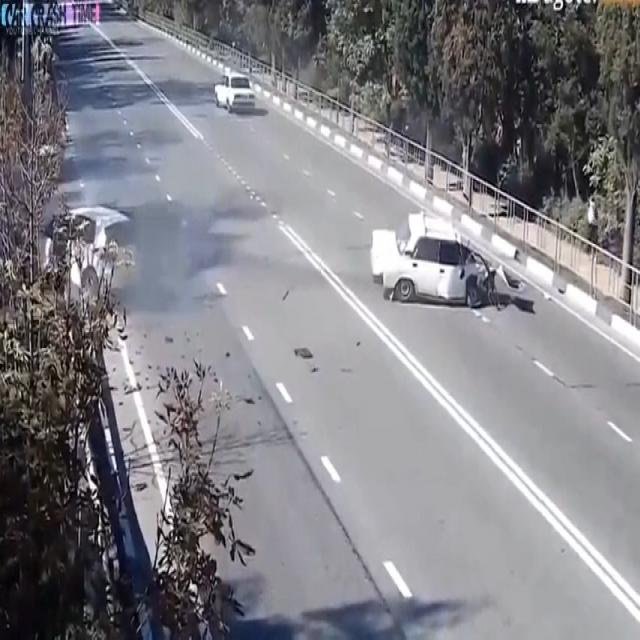Accident: (372, 203, 509, 333), (44, 172, 156, 303)
